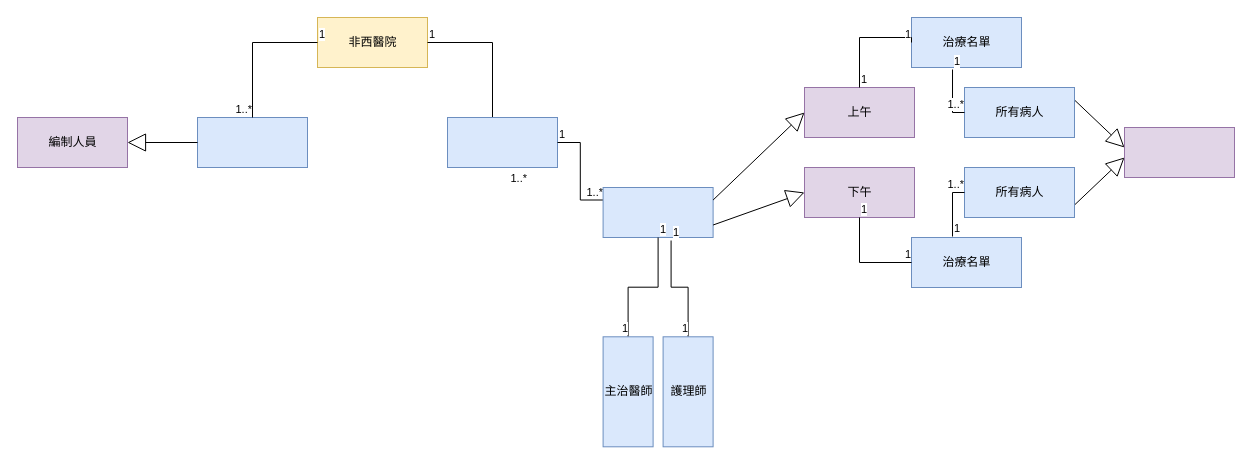
The diagram is 1252 pixels wide and 465 high, and some of its shapes have lost their labels. Each missing label, with the box of its shape:
時段: (602, 186, 713, 238)
診間: (446, 116, 558, 168)
醫生與護理師: (196, 116, 308, 168)
非編制人員: (1124, 126, 1234, 178)
